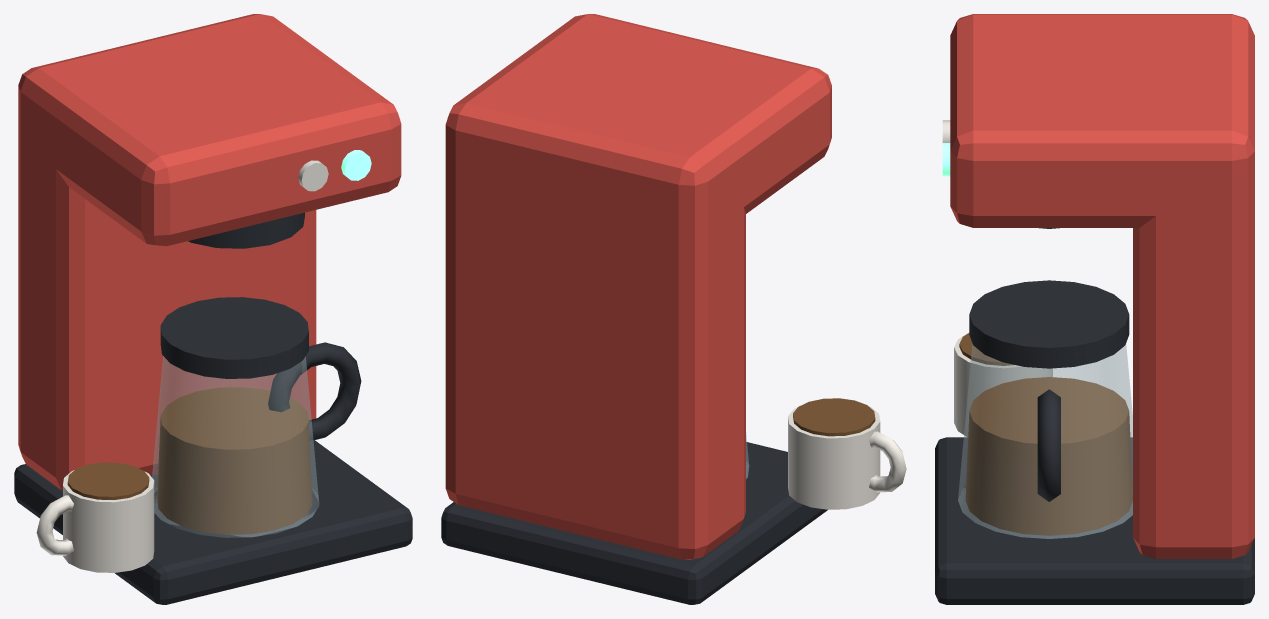
Rendered from cafeteira.glb.
3 views of the same model, side by side, from view 1: azimuth 30°, elevation 25°; view 2: azimuth 150°, elevation 25°; view 3: azimuth 270°, elevation 25° (orthographic). The views are drawn at different scales.
Parts seen in each view (by area): view 1: cafeteira; view 2: cafeteira; view 3: cafeteira.
Boxes of the visible parts, bbox=[...] form: cafeteira: bbox=[14, 14, 412, 604]; cafeteira: bbox=[441, 14, 906, 604]; cafeteira: bbox=[935, 14, 1254, 604].
Size of the model in its own units: 0.567 by 0.68 by 0.42.
